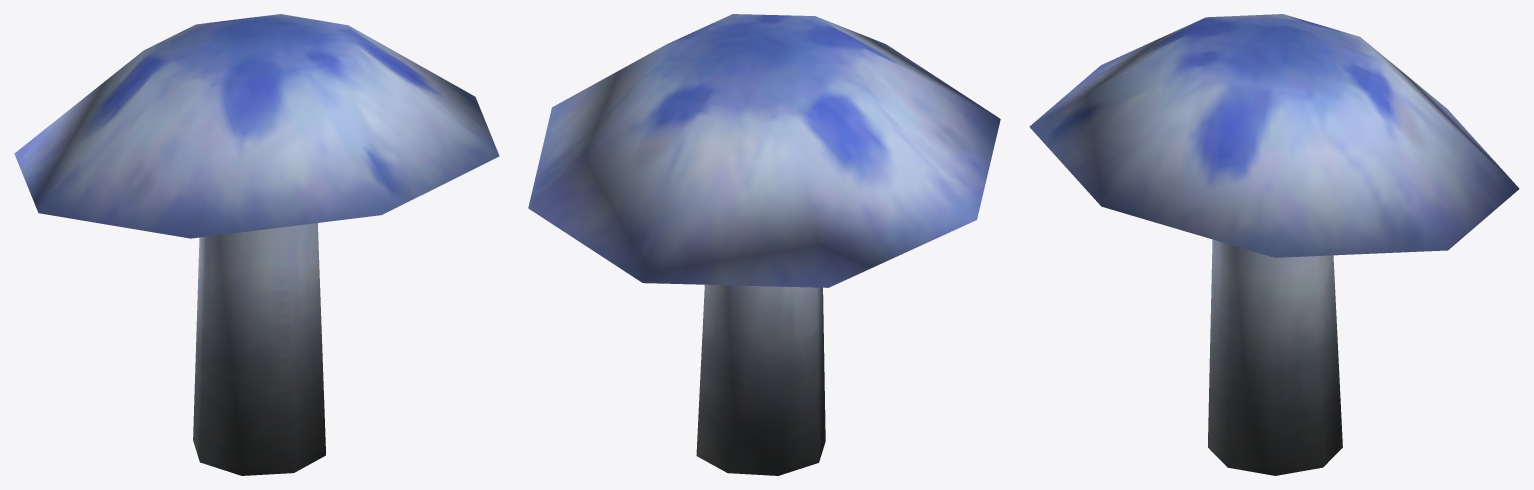
File: INST_TROLLHOLE_SHROOMA1.fbx
3 renders of one model, left to right at view 1: azimuth 30°, elevation 25°; view 2: azimuth 150°, elevation 25°; view 3: azimuth 270°, elevation 25°, orthographic. The views are drawn at different scales.
Parts seen in each view (by area): view 1: INST_TROLLHOLE_SHROOMA1; view 2: INST_TROLLHOLE_SHROOMA1; view 3: INST_TROLLHOLE_SHROOMA1.
Boxes of the visible parts, bbox=[...] form: INST_TROLLHOLE_SHROOMA1: bbox=[14, 14, 499, 475]; INST_TROLLHOLE_SHROOMA1: bbox=[528, 14, 1000, 475]; INST_TROLLHOLE_SHROOMA1: bbox=[1029, 14, 1519, 475].
Bounding box in the file's own units: 3555 × 3476 × 3522.
1 material, 1 textured.
